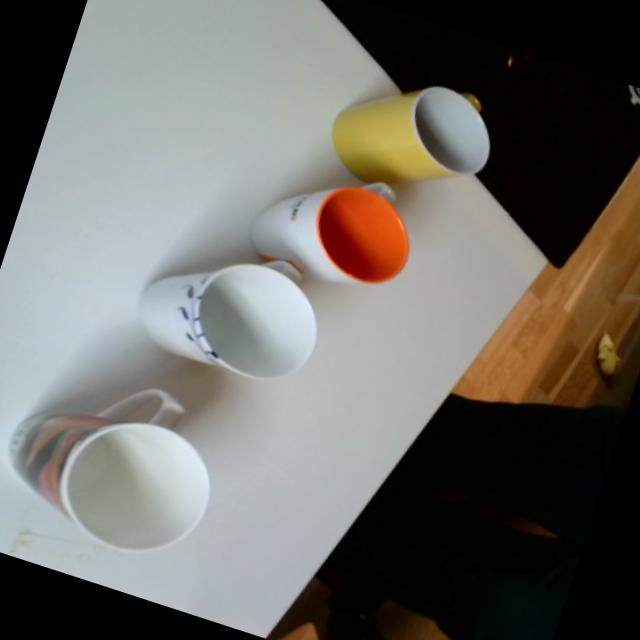Cocio Cup: (320, 55, 508, 217)
Halloween cup: (0, 344, 244, 572)
Hand painted cup: (128, 222, 338, 398)
White Cup: (243, 148, 434, 306)
